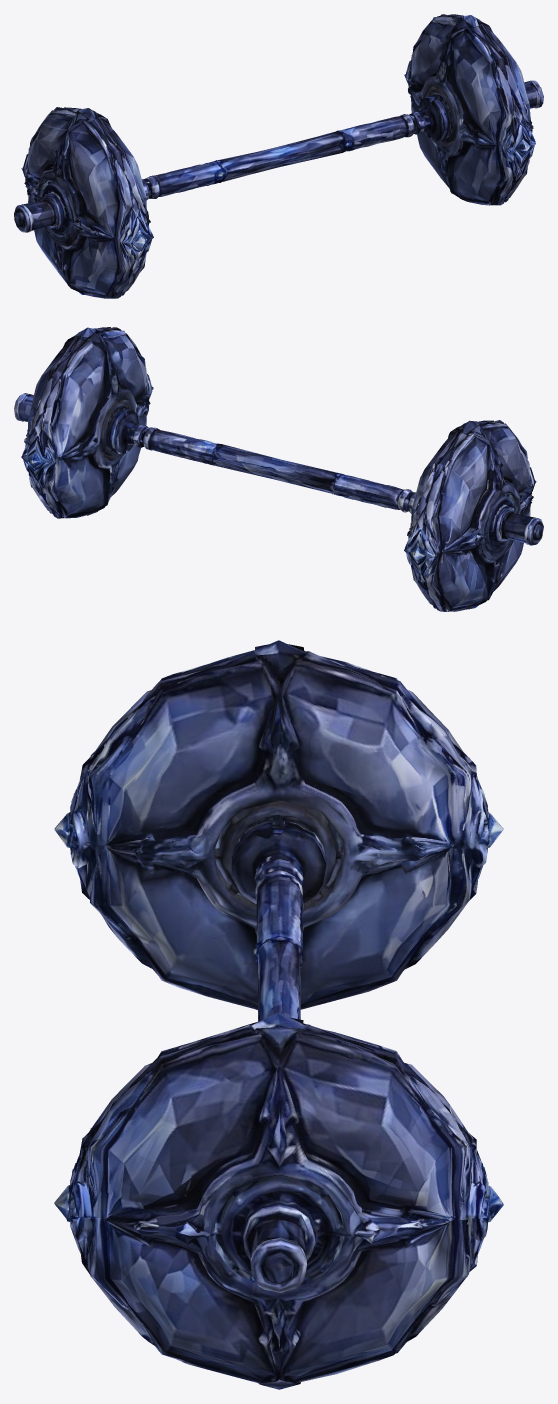
Rendered from MAHWORLD_GYM_BARBELL_L1.glb.
3 views of the same model, one above another, from view 1: azimuth 30°, elevation 25°; view 2: azimuth 150°, elevation 25°; view 3: azimuth 270°, elevation 25° (orthographic). The views are drawn at different scales.
Parts seen in each view (by area): view 1: tripo_node_f7ad4652-c5a5-44f0-a539-8e10d2461cba; view 2: tripo_node_f7ad4652-c5a5-44f0-a539-8e10d2461cba; view 3: tripo_node_f7ad4652-c5a5-44f0-a539-8e10d2461cba.
Boxes of the visible parts, left/top/right/bottom form: tripo_node_f7ad4652-c5a5-44f0-a539-8e10d2461cba: left=14, top=14, right=543, bottom=298; tripo_node_f7ad4652-c5a5-44f0-a539-8e10d2461cba: left=14, top=327, right=543, bottom=611; tripo_node_f7ad4652-c5a5-44f0-a539-8e10d2461cba: left=54, top=640, right=503, bottom=1389.
Size of the model in its own units: 0.9824 by 0.3373 by 0.3666.
Materials: 1 (1 with a texture image).
